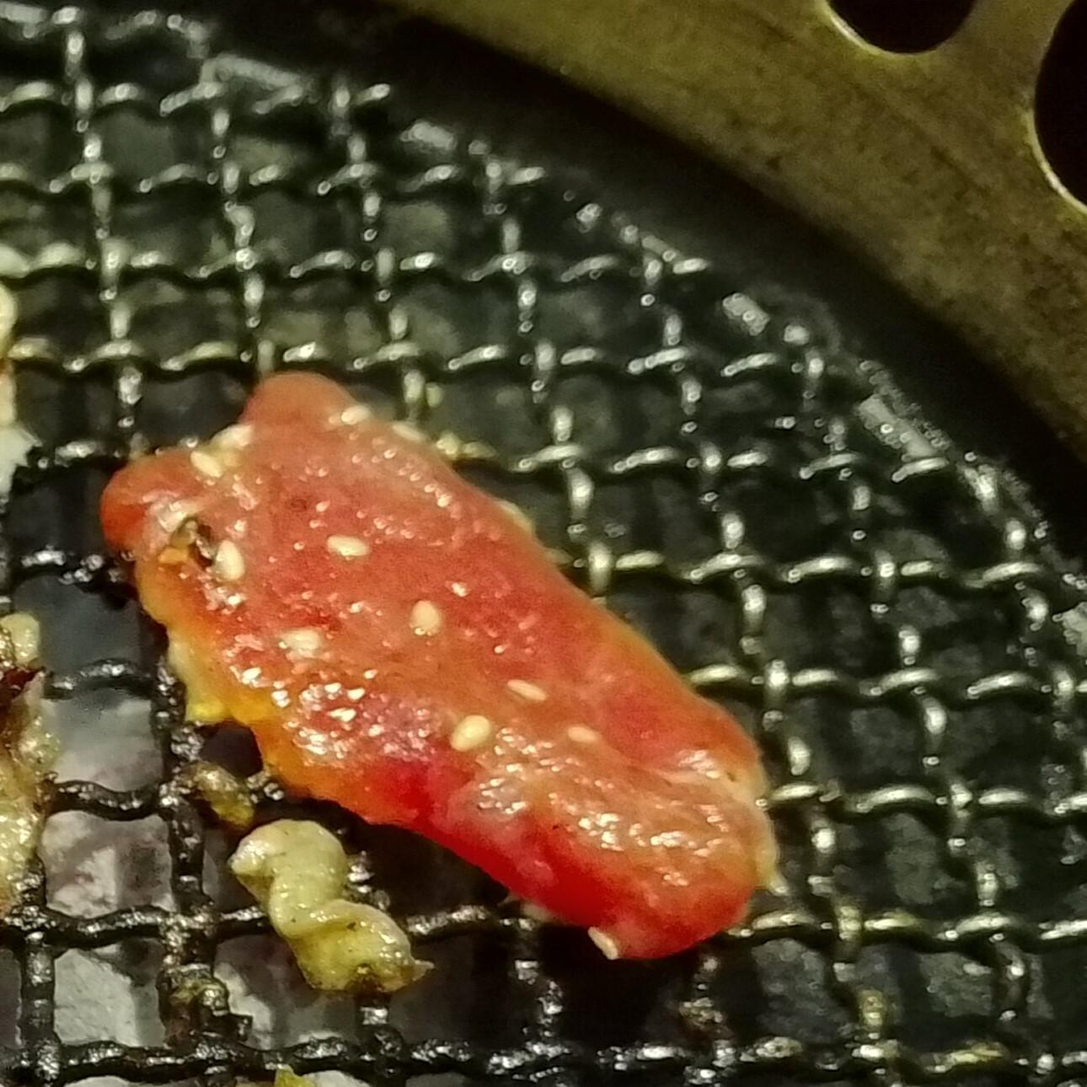Undercooked: (99, 372, 783, 966)
